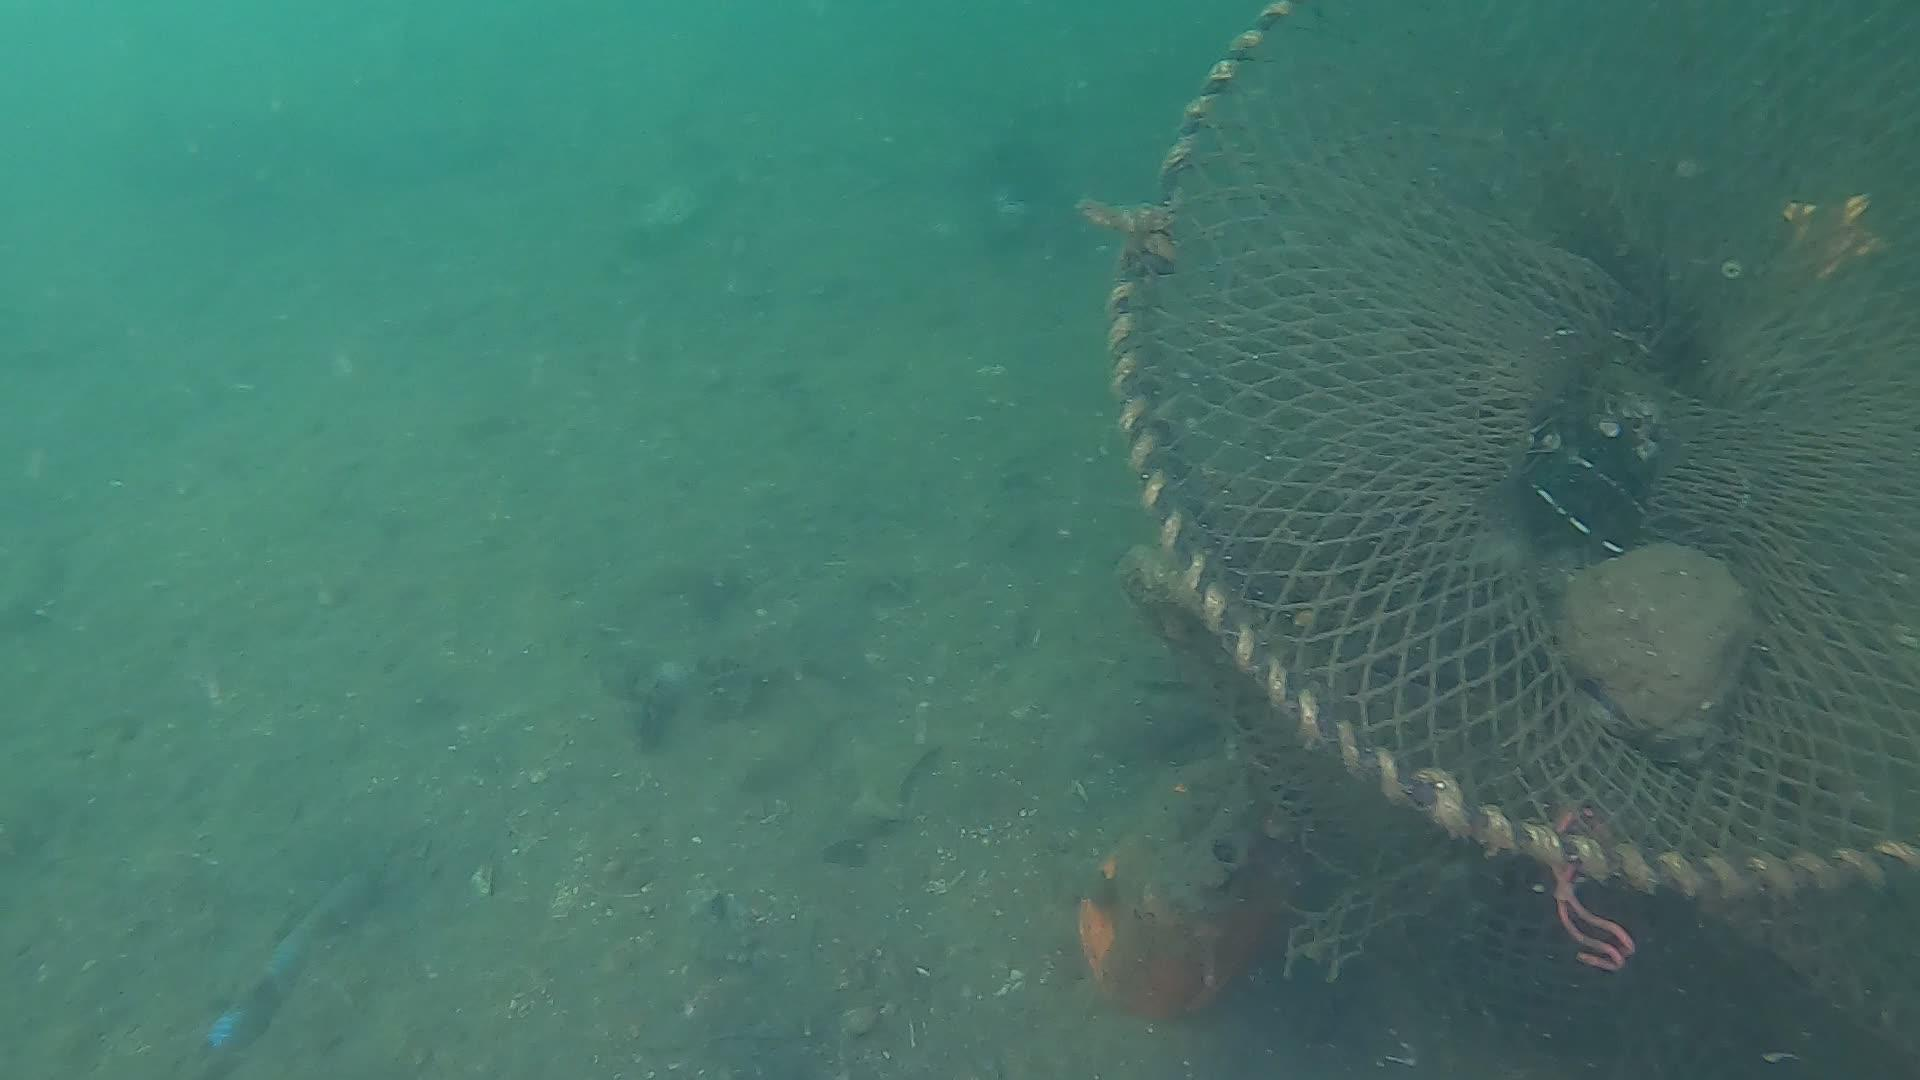circular fish trap: (1102, 0, 1920, 972)
